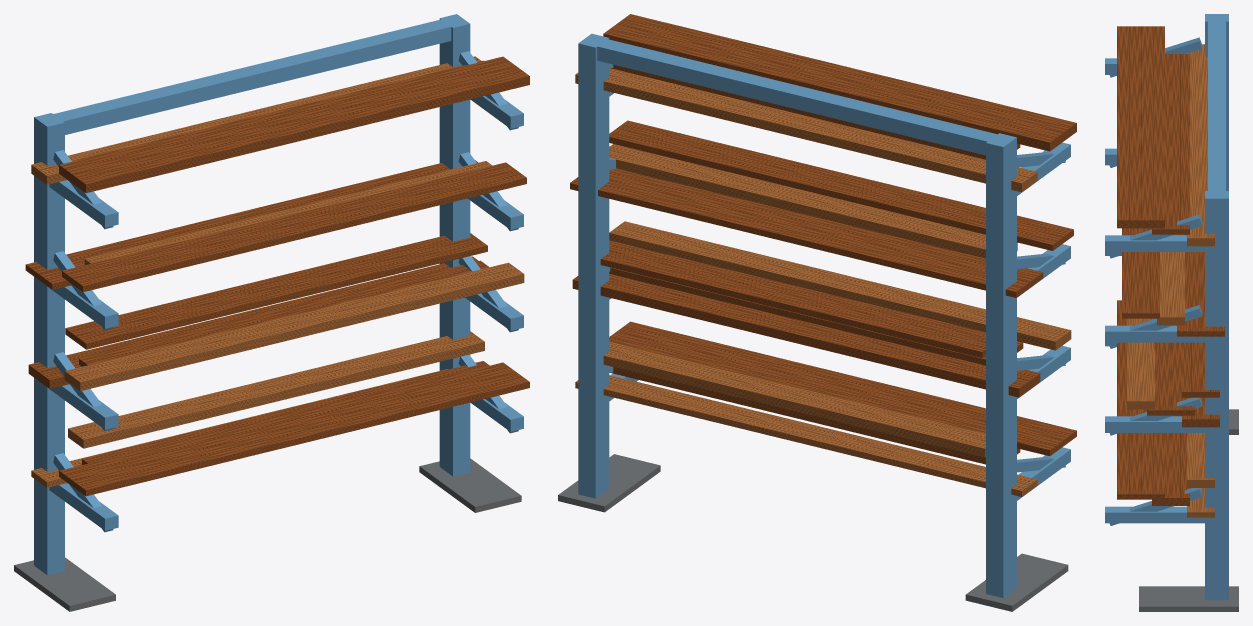
Rendered from woodworking-workshop-and-joinery-woodworking-workshop--b4f0d615__34259.glb.
3 renders of one model, left to right at view 1: azimuth 30°, elevation 25°; view 2: azimuth 150°, elevation 25°; view 3: azimuth 270°, elevation 25°, orthographic. The views are drawn at different scales.
Visible parts, largest first — view 1: woodworking-workshop-and-joinery-timber-rack-loaded; view 2: woodworking-workshop-and-joinery-timber-rack-loaded; view 3: woodworking-workshop-and-joinery-timber-rack-loaded.
Part boxes in pixels (x1,y1,x2,y2): woodworking-workshop-and-joinery-timber-rack-loaded: [14, 14, 529, 611]; woodworking-workshop-and-joinery-timber-rack-loaded: [558, 14, 1076, 611]; woodworking-workshop-and-joinery-timber-rack-loaded: [1105, 14, 1238, 611].
Bounding box in the file's own units: 2.34 × 2.25 × 0.6699.
4 materials, 2 textured.
